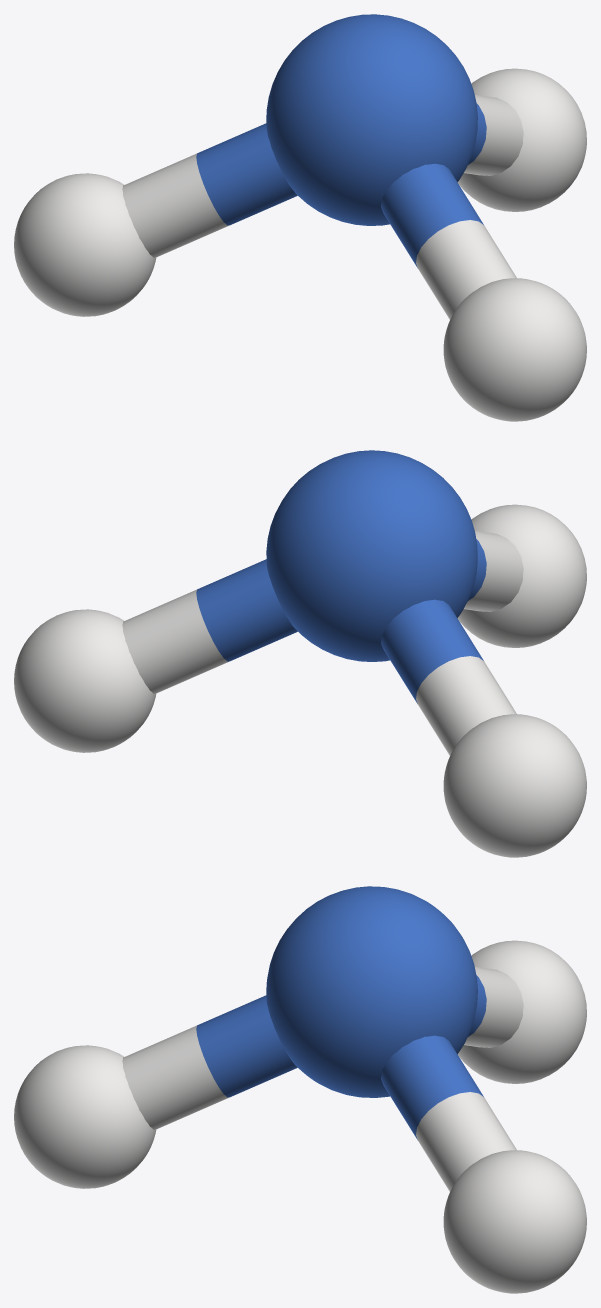
3 views of the same model, one above another, from view 1: azimuth 30°, elevation 25°; view 2: azimuth 150°, elevation 25°; view 3: azimuth 270°, elevation 25° (orthographic).
Parts seen in each view (by area): view 1: 对象003; view 2: 对象003; view 3: 对象003.
Part boxes in pixels (x1=…): 对象003: x1=14, y1=14, x2=586, y2=421; 对象003: x1=14, y1=450, x2=586, y2=857; 对象003: x1=14, y1=886, x2=586, y2=1293.
Bounding box in the file's own units: 24.14 × 11.9 × 21.64.
